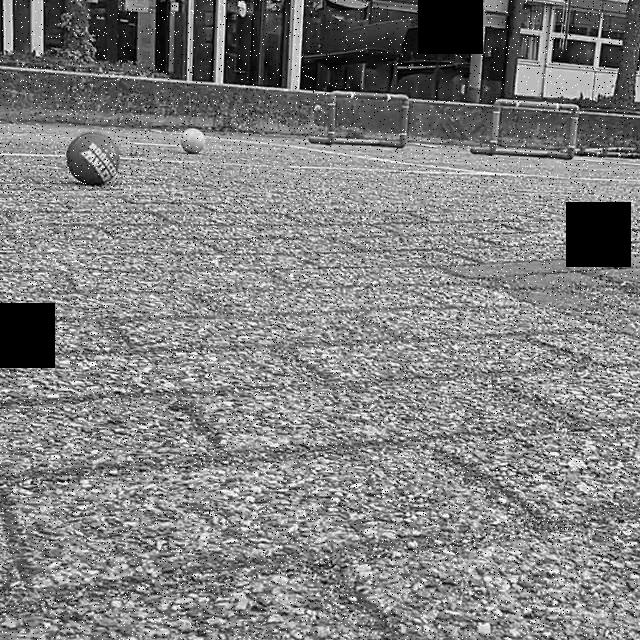ball: (179, 124, 208, 154)
